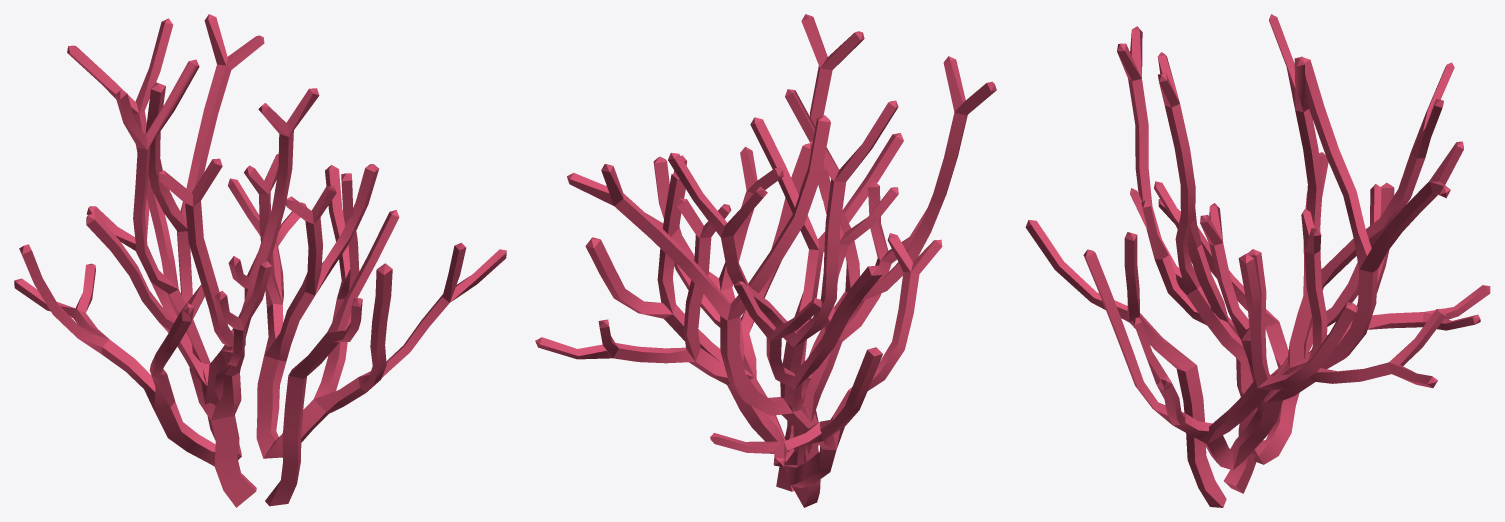
Rendered from coral_D_medium.fbx.
3 views of the same model, side by side, from view 1: azimuth 30°, elevation 25°; view 2: azimuth 150°, elevation 25°; view 3: azimuth 270°, elevation 25° (orthographic). The views are drawn at different scales.
Parts seen in each view (by area): view 1: coral_D_medium; view 2: coral_D_medium; view 3: coral_D_medium.
Part boxes in pixels (x1,y1,x2,y2): coral_D_medium: (14, 14, 506, 507); coral_D_medium: (535, 14, 996, 507); coral_D_medium: (1025, 14, 1490, 507).
Bounding box in the file's own units: 163 × 180 × 173.
